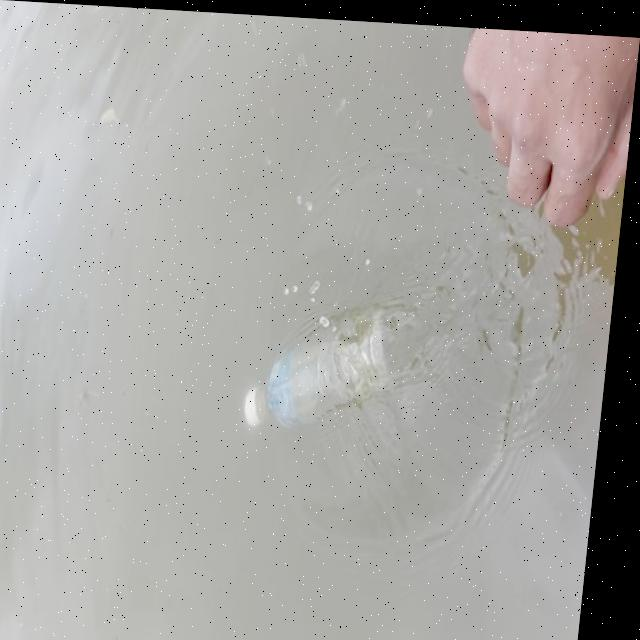waterbottle: (240, 290, 392, 439)
